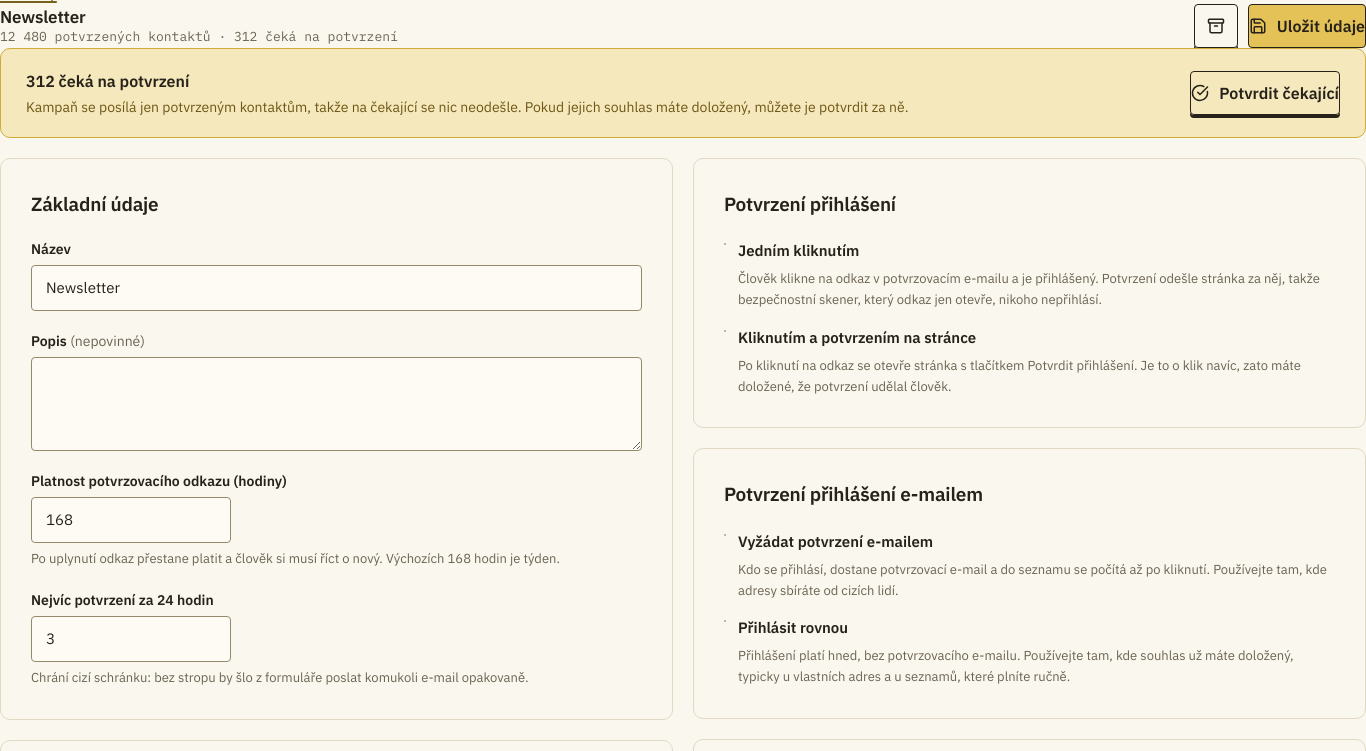
archivace seznamu › kliknutí na ikonu archivace nearchivuje, jen se zeptá
Click the button with test id "list-archive-open". click: (1216, 26)
box: [1194, 4, 1238, 48]
(page scrolled)
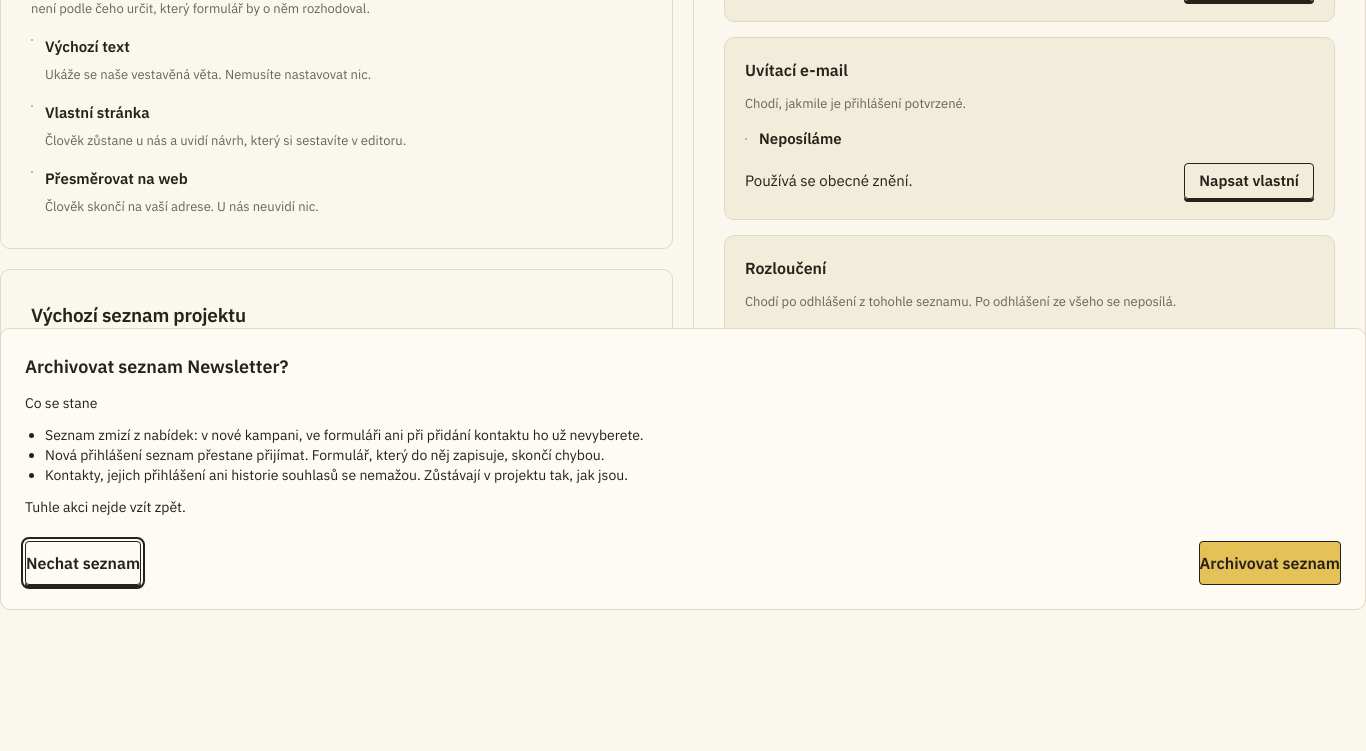
Check: the dialog shows "Archivovat seznam Newsletter?", box [25, 354, 288, 378]
